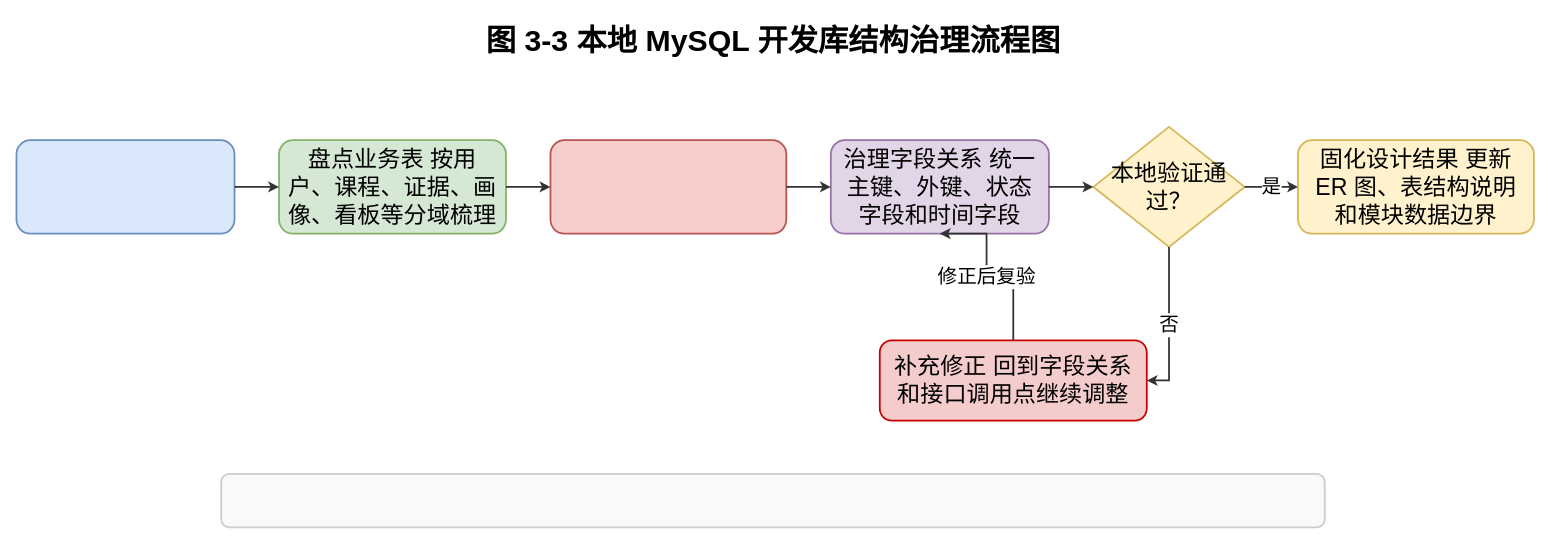
Image size: 1549x543. Some labels were removed from this diagram. The centre of each missing label's shape, as x and y in pixels:
"清理历史冗余 排除 SQLite 旧逻辑、临时备份表和无效字段口径" goes at (668,186).
"确认开发基线 本地 MySQL 开发库作为唯一设计基线" goes at (125,186).
"说明：本流程只描述本地 MySQL 开发库的结构治理、验证和设计固化，所有表结构说明与 ER 图均以本地开发库为准。" goes at (772,500).
